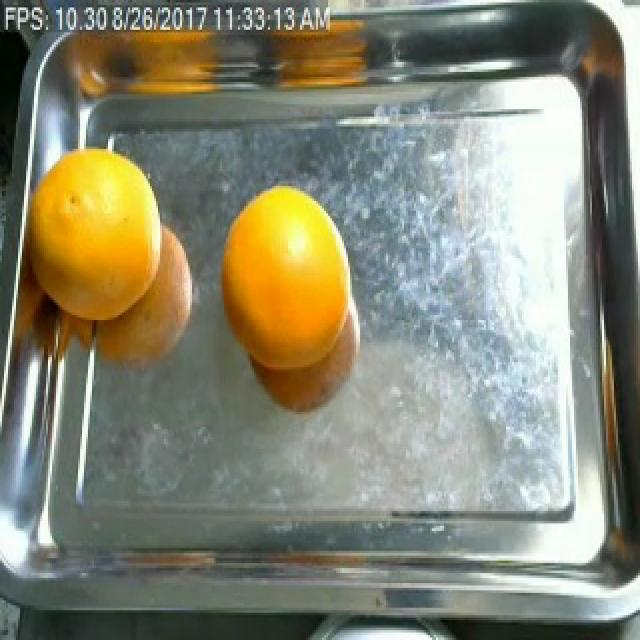Fruit: (206, 171, 364, 355)
